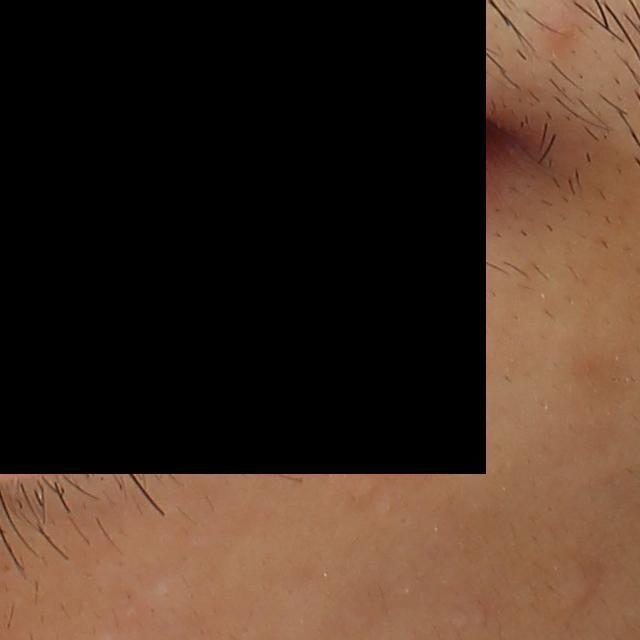papule: (550, 10, 582, 50)
